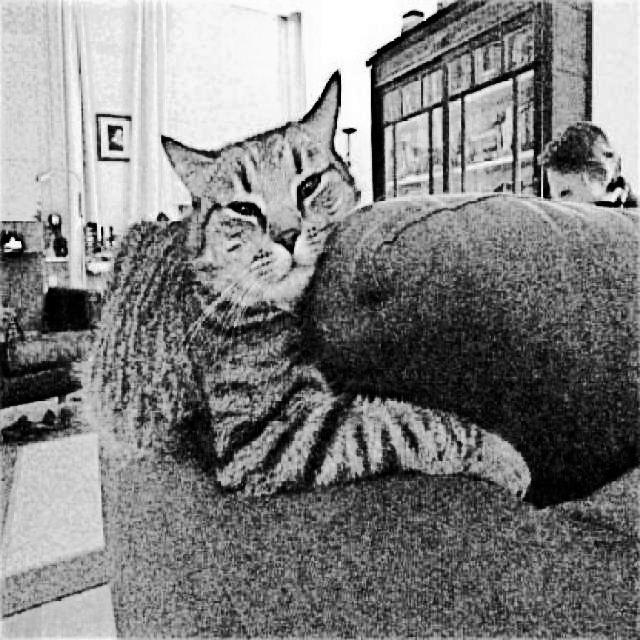Cat: (70, 67, 539, 506)
